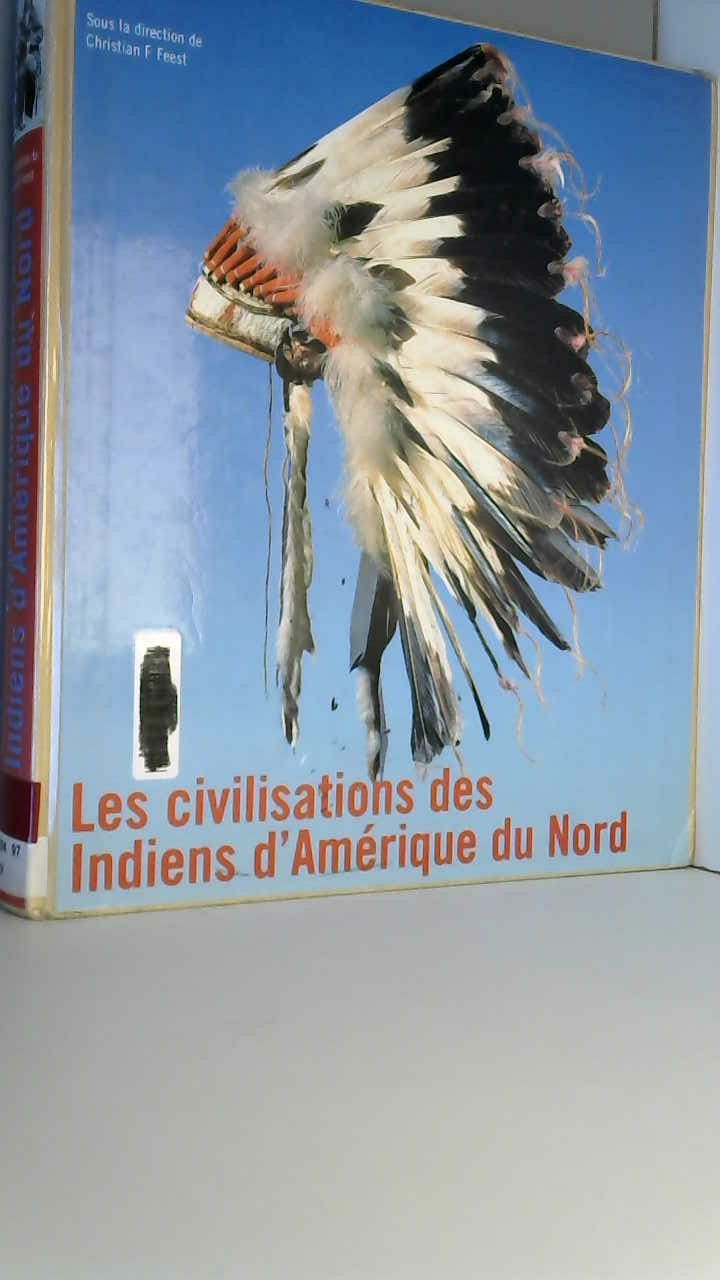book: (0, 0, 720, 945)
